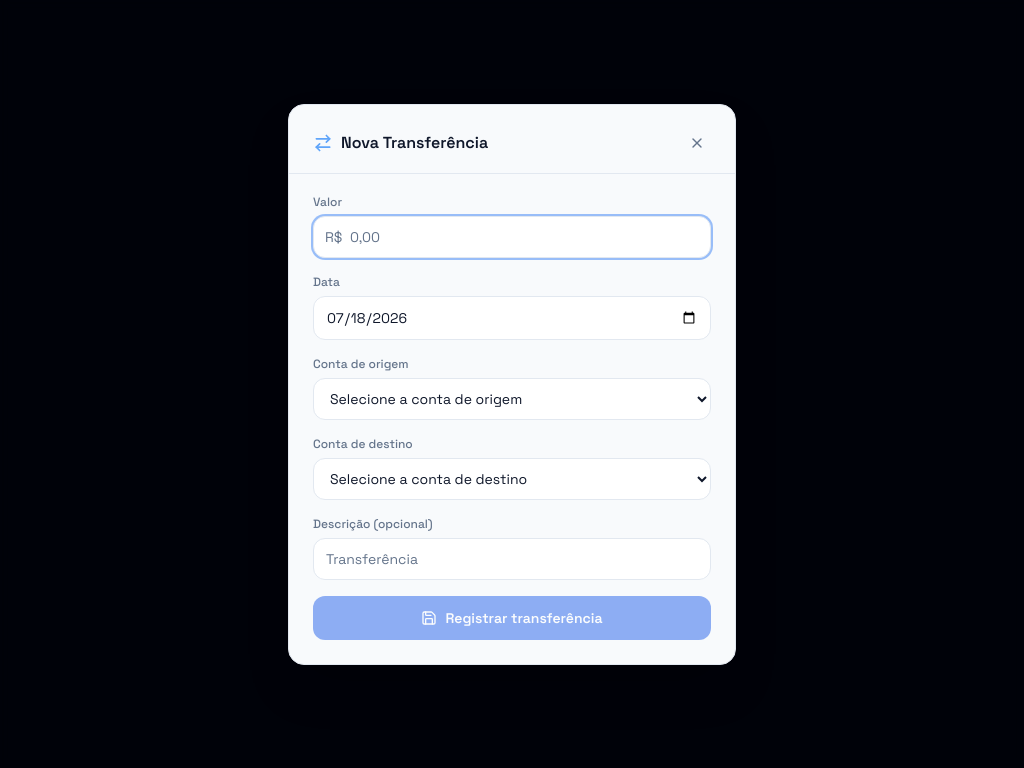
Test: TransferForm › exibe erro e mantém o form aberto quando o serviço rejeita
Step 1. Type "10,00" into the field labelled "Valor" → (512,236), box [313,216,711,258]
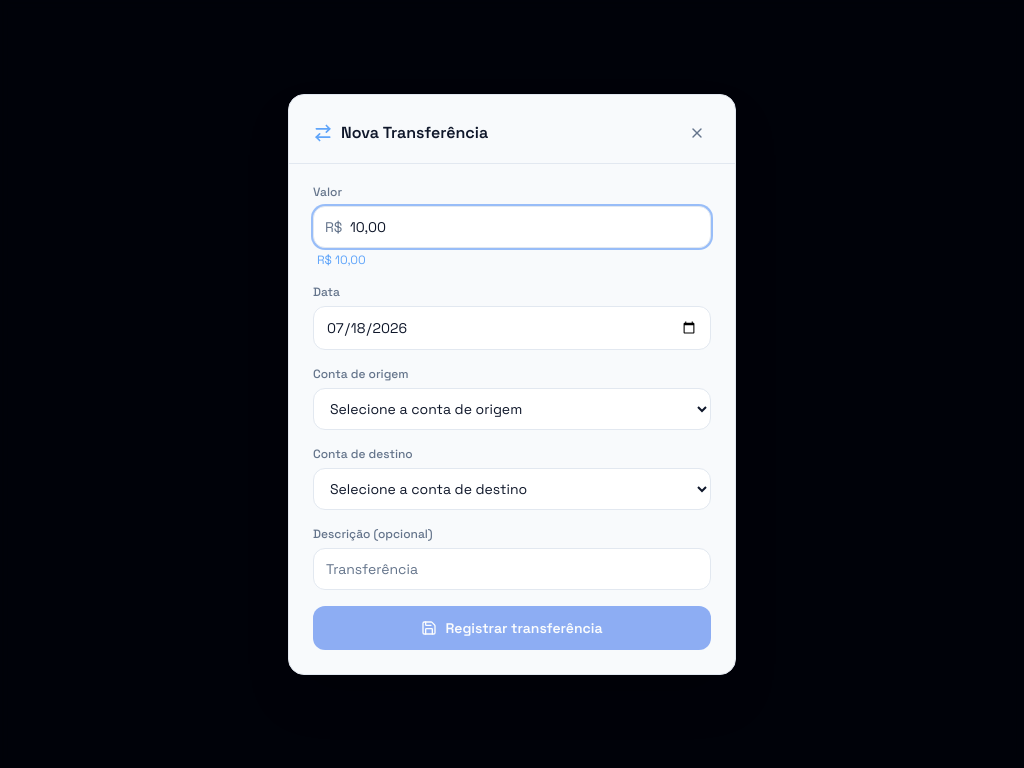
Step 2. Select "Corrente" in the dropdown labelled "Conta de origem" → (512,408), box [313,388,711,430]
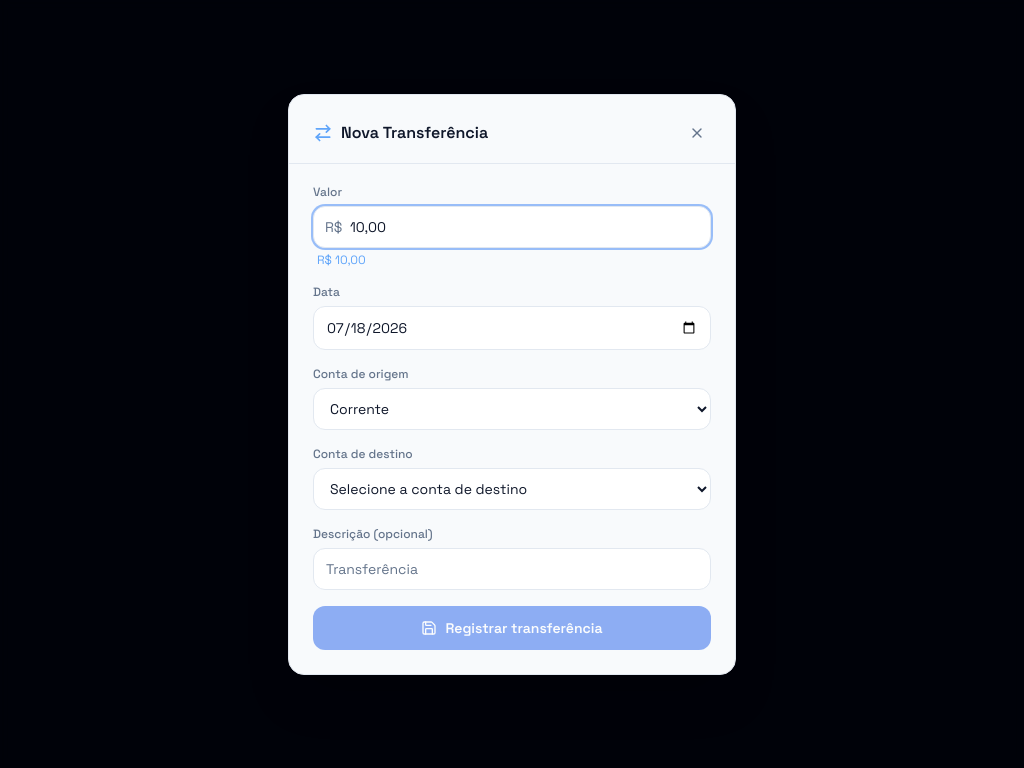
Step 3. Select "Poupança" in the dropdown labelled "Conta de destino" → (512,488), box [313,468,711,510]
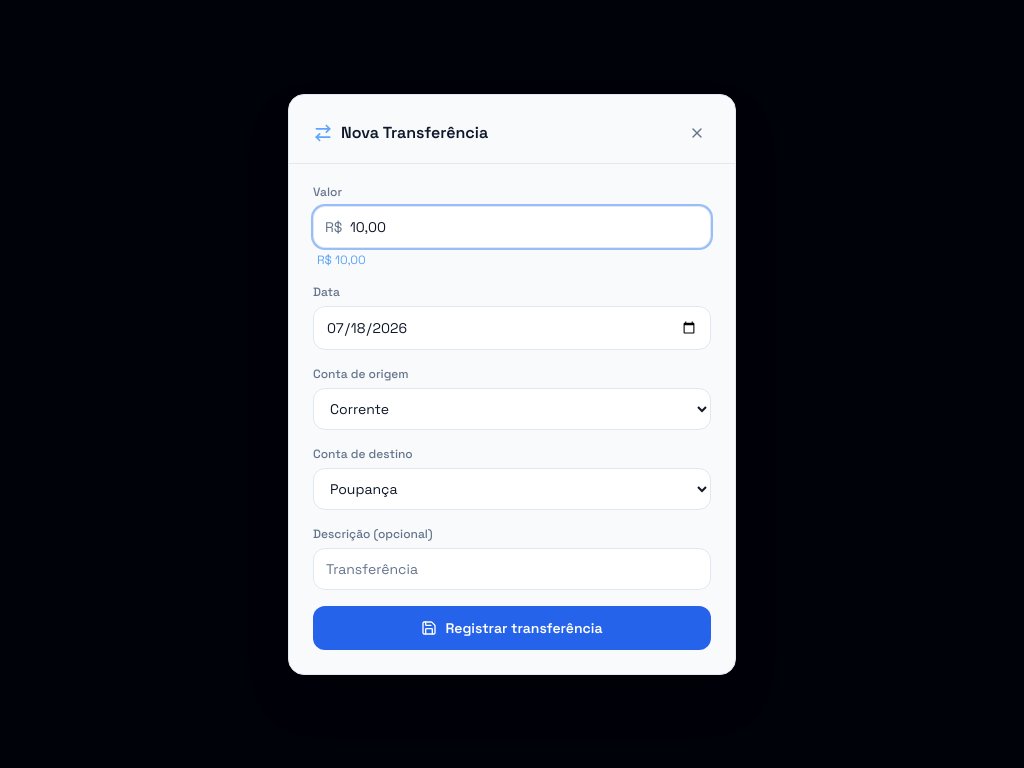
Step 4. Click the button "Registrar transferência" → (512,628), box [313,606,711,650]
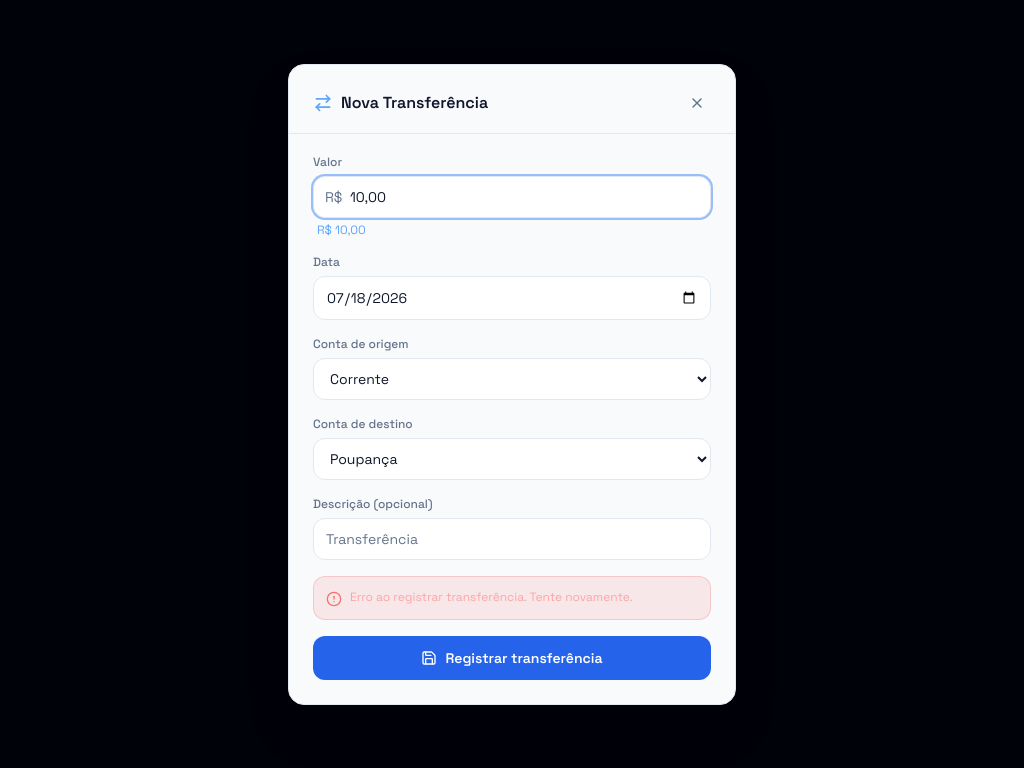
Expected: the text "Erro ao registrar transferência. Tente novamente." is shown, [350,588,633,604]
